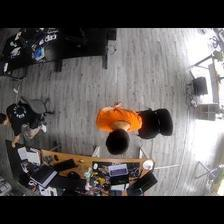normal: (94, 102, 144, 153), (1, 99, 50, 144)
